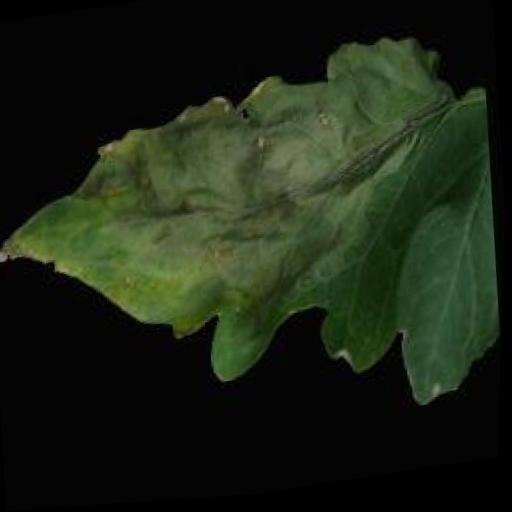Late Blight: (0, 23, 511, 466)
